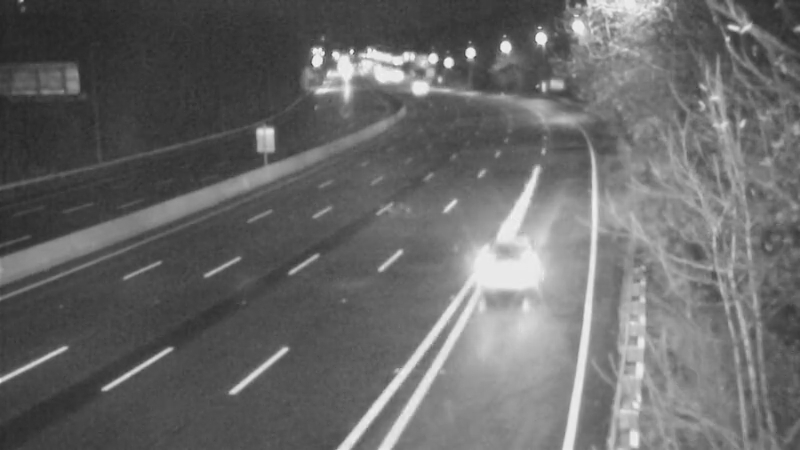vehicle: (478, 241, 558, 321), (389, 64, 439, 114)
